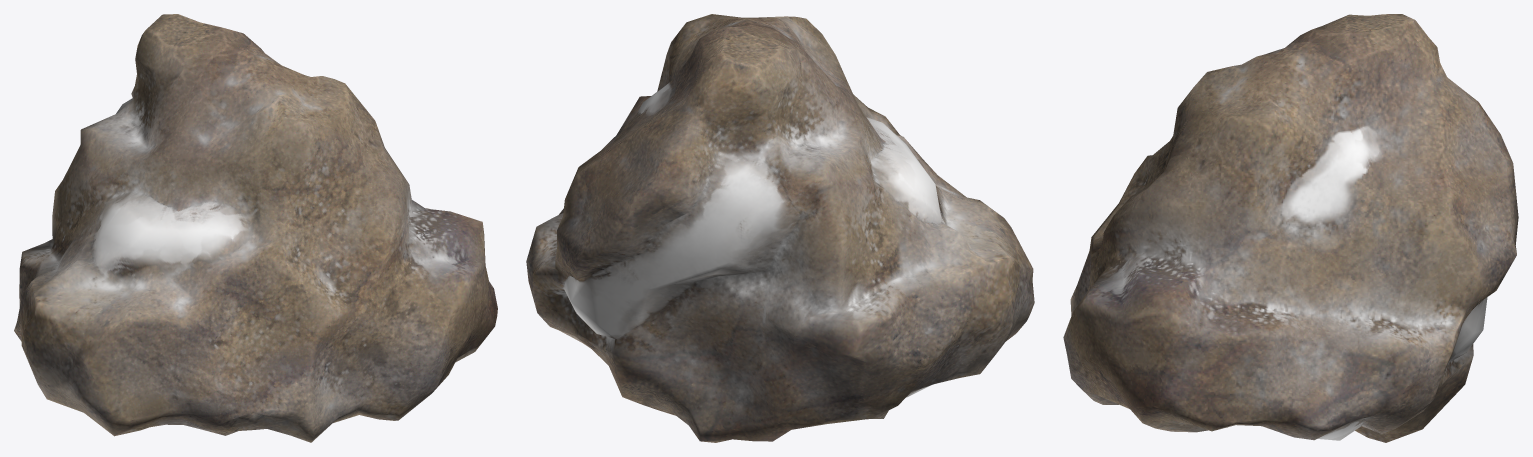
Rendered from SM_MetalNode_1b.fbx.
3 views of the same model, side by side, from view 1: azimuth 30°, elevation 25°; view 2: azimuth 150°, elevation 25°; view 3: azimuth 270°, elevation 25° (orthographic). The views are drawn at different scales.
Parts seen in each view (by area): view 1: SM_MetalNode_1b_LOD0; view 2: SM_MetalNode_1b_LOD0; view 3: SM_MetalNode_1b_LOD0.
Boxes of the visible parts, x1,y1,x2,y2 form: SM_MetalNode_1b_LOD0: [14, 14, 497, 442]; SM_MetalNode_1b_LOD0: [526, 14, 1034, 442]; SM_MetalNode_1b_LOD0: [1063, 14, 1518, 442].
Size of what is drawn, in the model's own units: 1.28 by 1.08 by 1.11.
